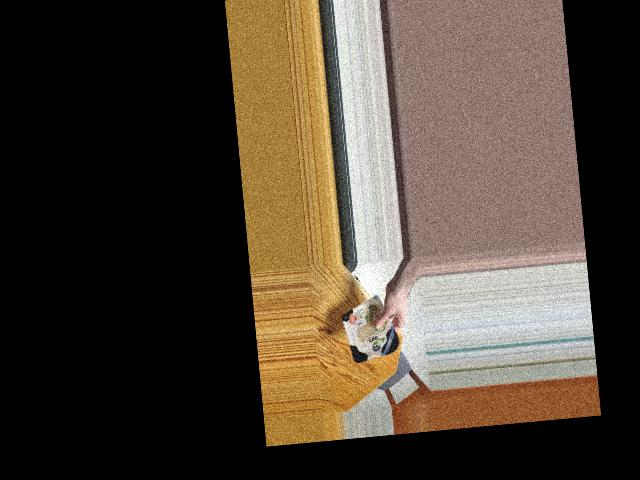cheese: (342, 304, 398, 362)
